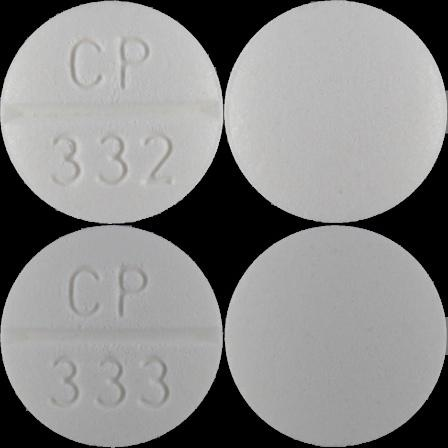54505-332: (0, 0, 224, 224)
